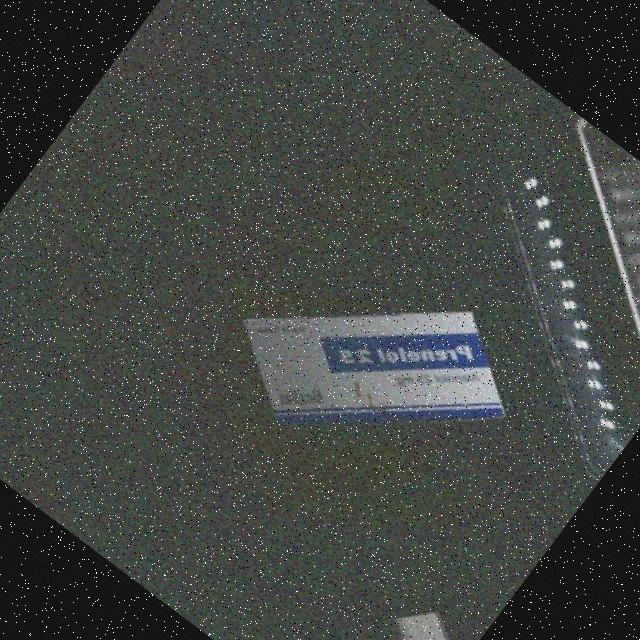prenolol: (243, 311, 506, 423)
